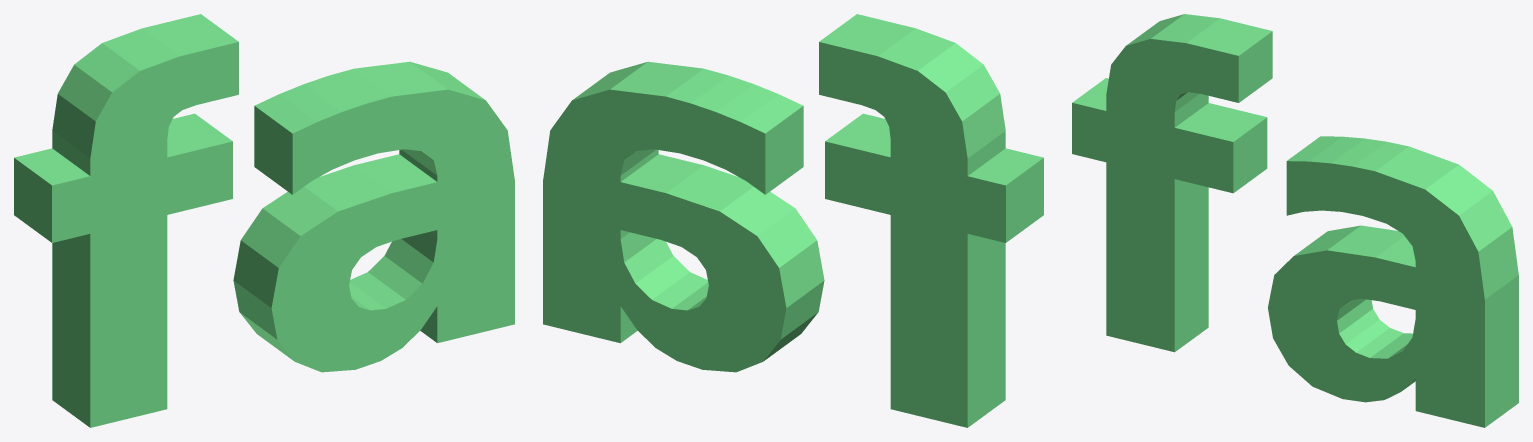
Rendered from suku_kecil_fa.glb.
The picture shows the model from 3 angles, left to right: view 1: azimuth 30°, elevation 25°; view 2: azimuth 150°, elevation 25°; view 3: azimuth 330°, elevation 25°; orthographic projection. The views are drawn at different scales.
Visible parts, largest first — view 1: geometry_0; view 2: geometry_0; view 3: geometry_0.
Part boxes in pixels (left/top/right/bottom): geometry_0: left=14, top=14, right=514, bottom=427; geometry_0: left=543, top=14, right=1043, bottom=427; geometry_0: left=1072, top=14, right=1518, bottom=427.
Bounding box in the file's own units: 10.52 × 7.74 × 1.5.
